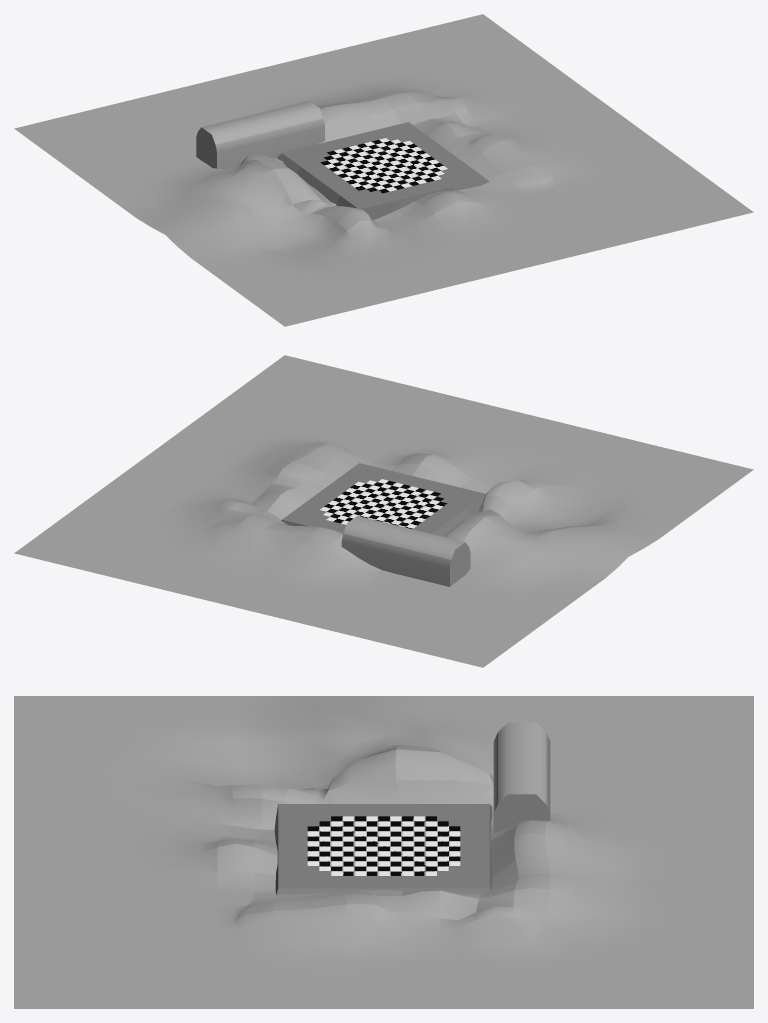
The model's file is N3_Sala3.fbx.
3 views of the same model, one above another, from view 1: azimuth 30°, elevation 25°; view 2: azimuth 150°, elevation 25°; view 3: azimuth 270°, elevation 25° (orthographic). The views are drawn at different scales.
Visible parts, largest first — view 1: Cesped, Escenario, Deco; view 2: Cesped, Escenario, Deco; view 3: Cesped, Escenario, Deco.
Part boxes in pixels (bbox=[...]): Cesped: bbox=[14, 14, 753, 326]; Escenario: bbox=[277, 122, 489, 219]; Deco: bbox=[196, 101, 324, 168]; Cesped: bbox=[14, 355, 753, 667]; Escenario: bbox=[281, 463, 485, 536]; Deco: bbox=[341, 516, 470, 586]; Cesped: bbox=[14, 696, 753, 1008]; Escenario: bbox=[274, 804, 492, 895]; Deco: bbox=[493, 722, 550, 833].
Bounding box in the file's own units: 157 × 15.04 × 157.
